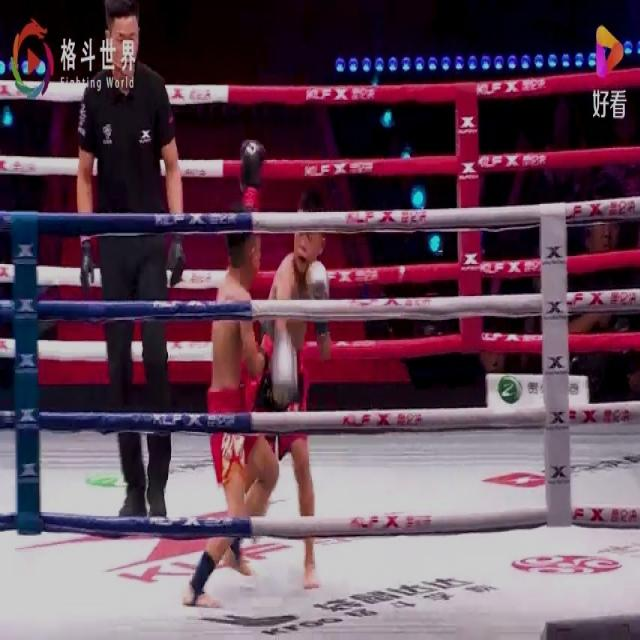fight: (185, 118, 331, 618)
non-fight: (74, 1, 186, 532)
